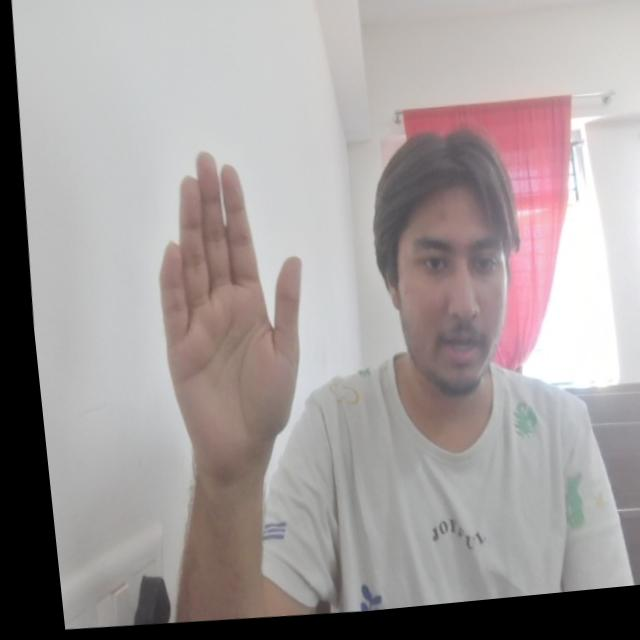hello: (135, 138, 317, 468)
